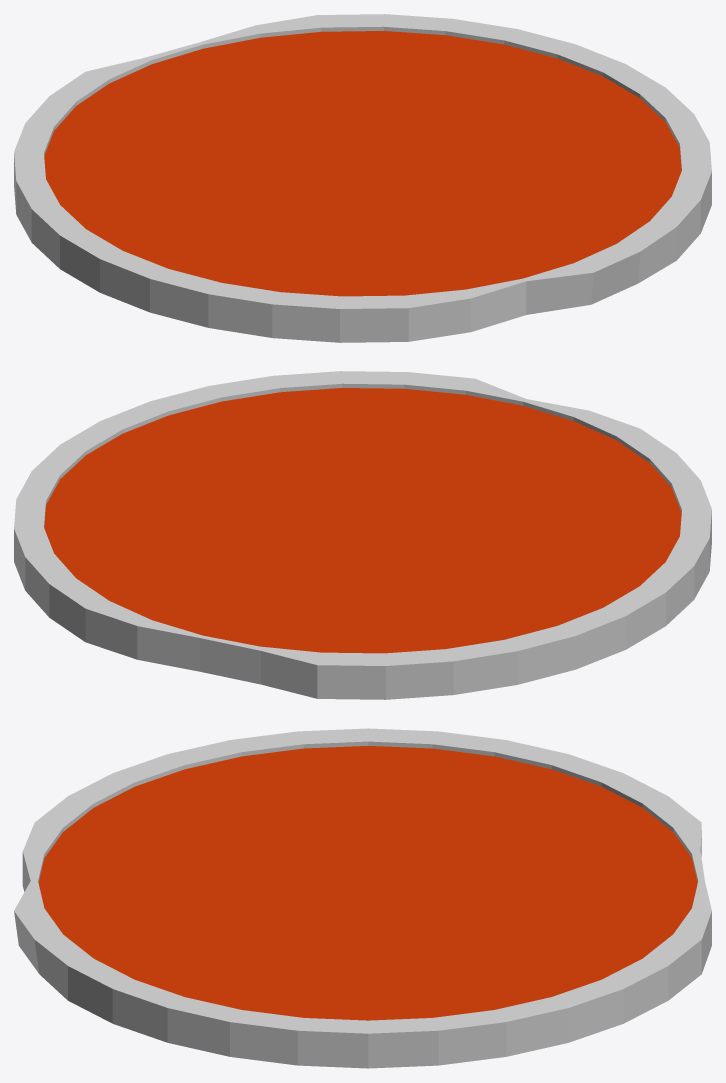
File: fountain.fbx
3 renders of one model, top to bottom at view 1: azimuth 30°, elevation 25°; view 2: azimuth 150°, elevation 25°; view 3: azimuth 270°, elevation 25°, orthographic. The views are drawn at different scales.
Parts seen in each view (by area): view 1: Cylinder.078, Cylinder.005; view 2: Cylinder.078, Cylinder.005; view 3: Cylinder.078, Cylinder.005.
Boxes of the visible parts, x1,y1,x2,y2 form: Cylinder.078: (44,31,681,296); Cylinder.005: (14,14,711,342); Cylinder.078: (44,388,681,653); Cylinder.005: (14,371,711,699); Cylinder.078: (38,746,697,1020); Cylinder.005: (14,728,711,1068).
Bounding box in the file's own units: 1263 × 67.22 × 1221.
